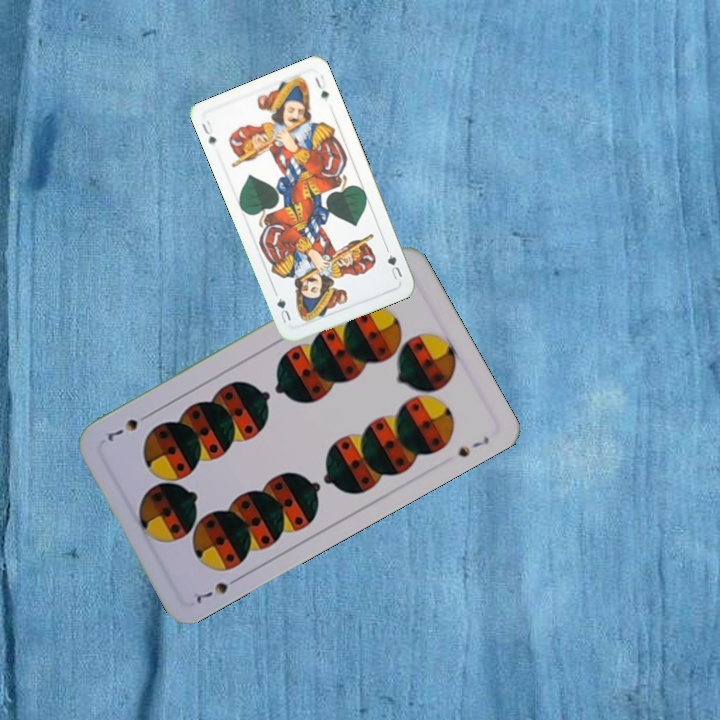GU: (382, 245, 405, 282), (198, 117, 219, 148)
S7: (192, 572, 244, 606)
